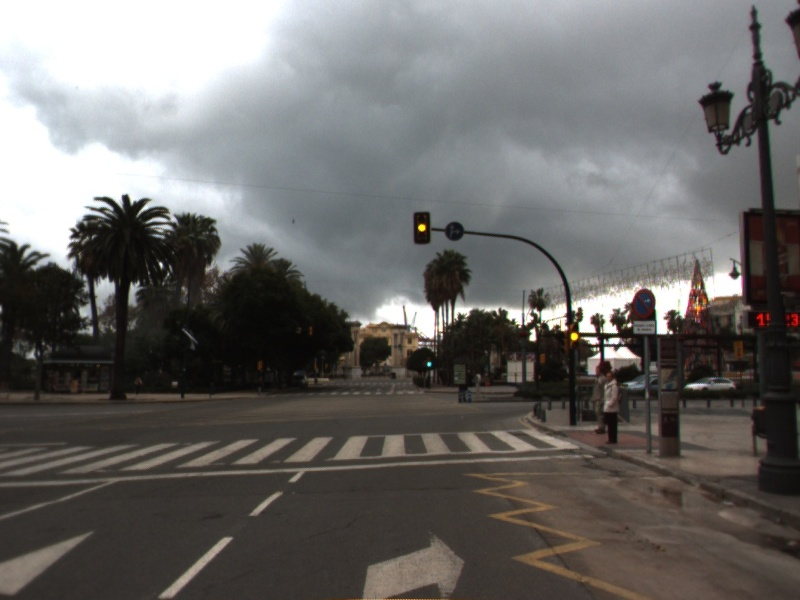RIGHT: (358, 521, 469, 600)
